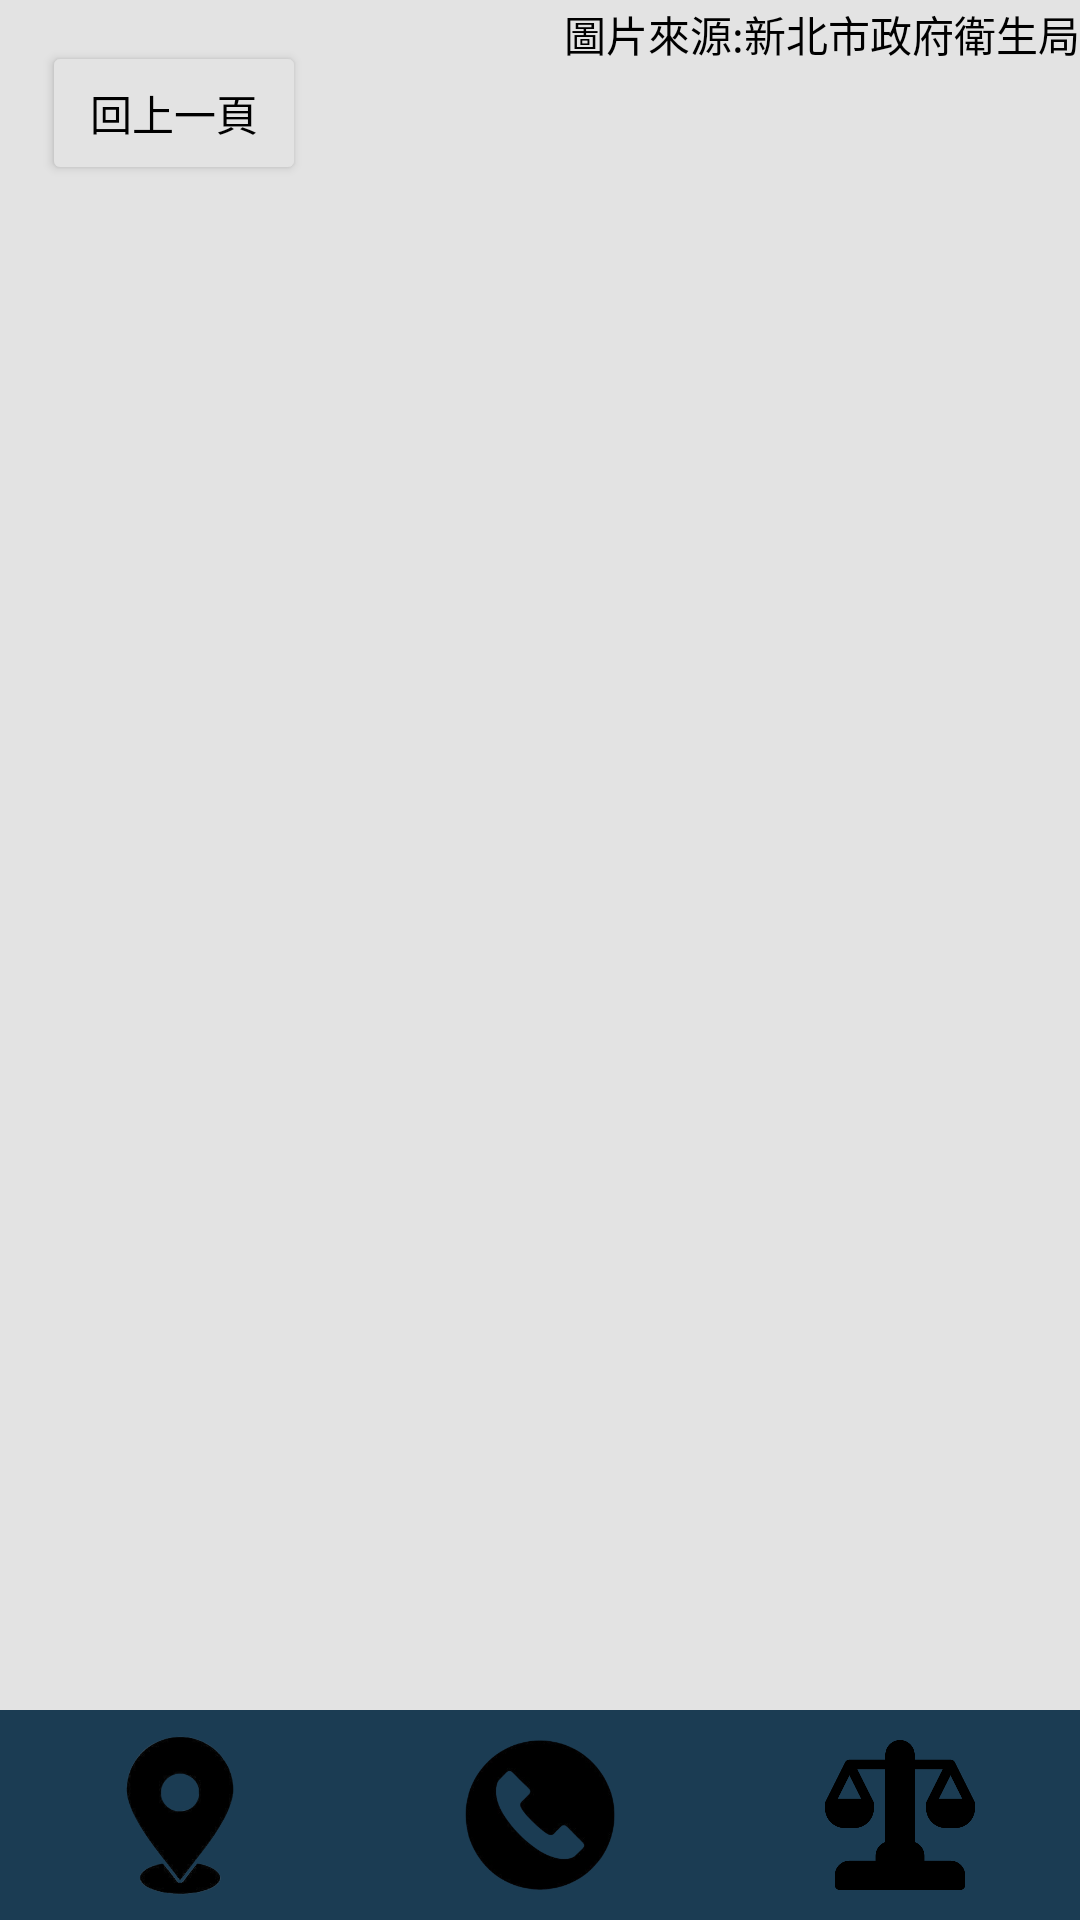

Named icons in this screenshot (1080x1920) and their centers, (x,y):
law: (900,1815)
location: (180,1815)
phone: (540,1815)
